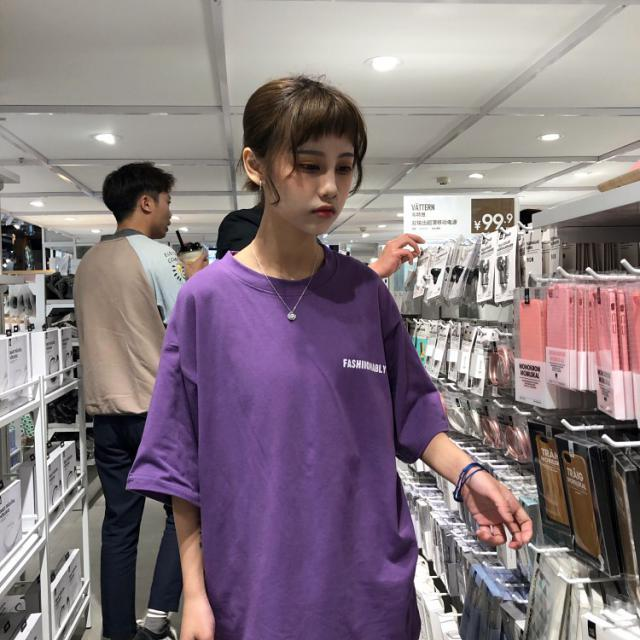Shirt: (132, 240, 452, 640)
